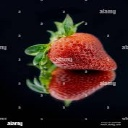strawberry: (30, 24, 116, 71), (25, 66, 116, 100)
